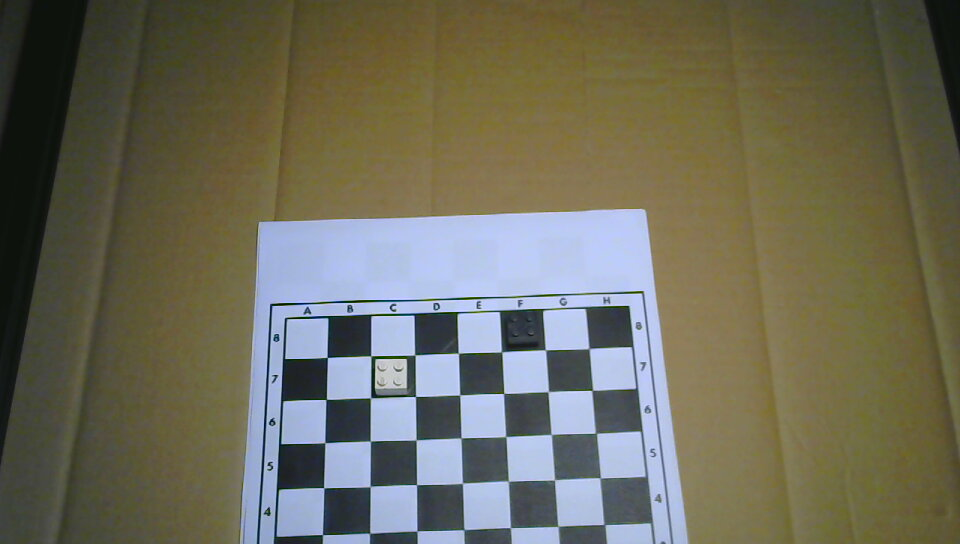bp: (504, 310, 540, 348)
wp: (373, 357, 408, 395)
